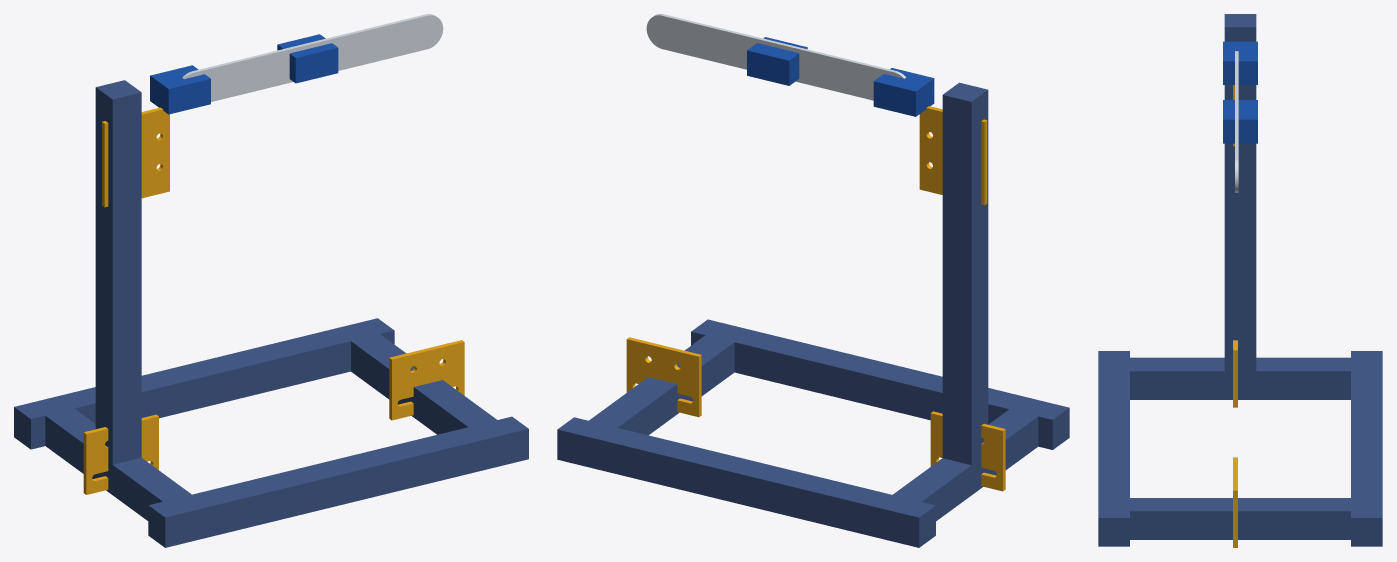
Rendered from HR-V0_preliminary_assembly.glb.
3 views of the same model, side by side, from view 1: azimuth 30°, elevation 25°; view 2: azimuth 150°, elevation 25°; view 3: azimuth 270°, elevation 25° (orthographic). The views are drawn at different scales.
Visible parts, largest first — view 1: base_rear, column, base_front, base_right, base_left, MV0_002_forearm, MV0_004_anchor_right, MV0_001_upper, MV0_003_adapter, MV0_004_anchor_left, J1_XM540_envelope, J2_XM540_envelope; view 2: base_front, column, base_rear, base_left, base_right, MV0_002_forearm, MV0_004_anchor_right, MV0_001_upper, MV0_003_adapter, J1_XM540_envelope, MV0_004_anchor_left, J2_XM540_envelope; view 3: base_right, base_left, column, base_rear, base_front, J1_XM540_envelope, J2_XM540_envelope, MV0_004_anchor_right.
Boxes of the visible parts, x1,y1,x2,y2 form: base_rear: [148, 416, 528, 547]; column: [95, 80, 141, 471]; base_front: [14, 318, 394, 449]; base_right: [343, 328, 496, 434]; base_left: [45, 408, 199, 520]; MV0_002_forearm: [303, 14, 443, 70]; MV0_004_anchor_right: [389, 340, 464, 420]; MV0_001_upper: [182, 43, 320, 101]; MV0_003_adapter: [102, 107, 169, 207]; MV0_004_anchor_left: [83, 414, 158, 494]; J1_XM540_envelope: [150, 65, 210, 114]; J2_XM540_envelope: [277, 34, 338, 83]; base_front: [557, 417, 935, 547]; column: [942, 82, 988, 474]; base_rear: [691, 319, 1069, 449]; base_left: [884, 403, 1046, 521]; base_right: [584, 329, 734, 435]; MV0_002_forearm: [646, 14, 784, 69]; MV0_004_anchor_right: [626, 337, 701, 417]; MV0_001_upper: [768, 42, 905, 100]; MV0_003_adapter: [919, 106, 987, 205]; J1_XM540_envelope: [873, 68, 934, 116]; MV0_004_anchor_left: [930, 411, 1005, 491]; J2_XM540_envelope: [747, 37, 807, 85]; base_right: [1130, 498, 1350, 539]; base_left: [1130, 357, 1350, 399]; column: [1224, 14, 1256, 385]; base_rear: [1098, 351, 1129, 546]; base_front: [1351, 351, 1382, 546]; J1_XM540_envelope: [1223, 41, 1257, 84]; J2_XM540_envelope: [1223, 100, 1257, 143]; MV0_004_anchor_right: [1233, 457, 1237, 547].
Bounding box in the file's own units: 520 × 522 × 360.
